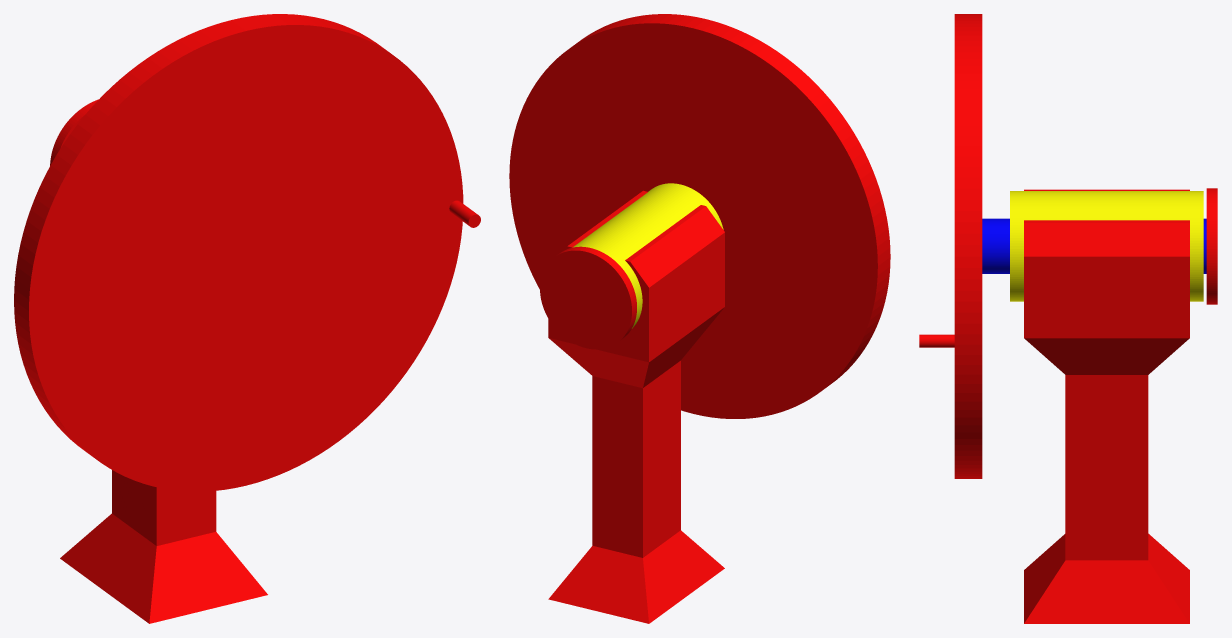
The model's file is Manual Generator.fbx.
3 views of the same model, side by side, from view 1: azimuth 30°, elevation 25°; view 2: azimuth 150°, elevation 25°; view 3: azimuth 270°, elevation 25° (orthographic). The views are drawn at different scales.
Parts seen in each view (by area): view 1: Wheel, Stand; view 2: Wheel, Stand; view 3: Stand, Wheel.
Part boxes in pixels (x1=…): Wheel: x1=14, y1=14, x2=480, y2=491; Stand: x1=60, y1=470, x2=267, y2=623; Wheel: x1=509, y1=14, x2=890, y2=418; Stand: x1=548, y1=183, x2=724, y2=623; Stand: x1=1010, y1=189, x2=1203, y2=623; Wheel: x1=919, y1=14, x2=1217, y2=478.
Size of the model in its own units: 168 by 224 by 108.
